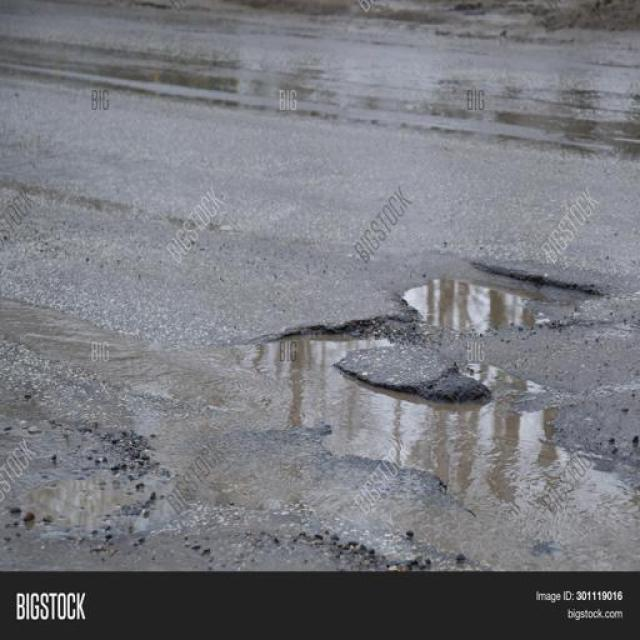puddle: (278, 339, 618, 586)
